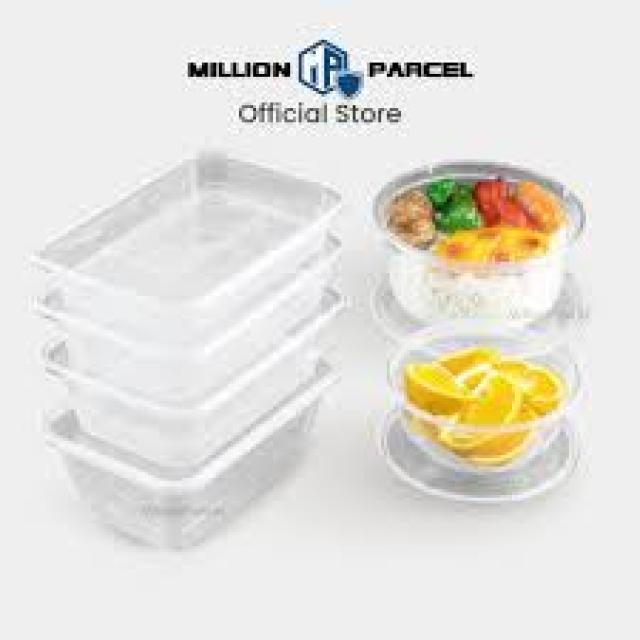disposable: (57, 143, 339, 336), (362, 143, 599, 340), (383, 302, 594, 480)
